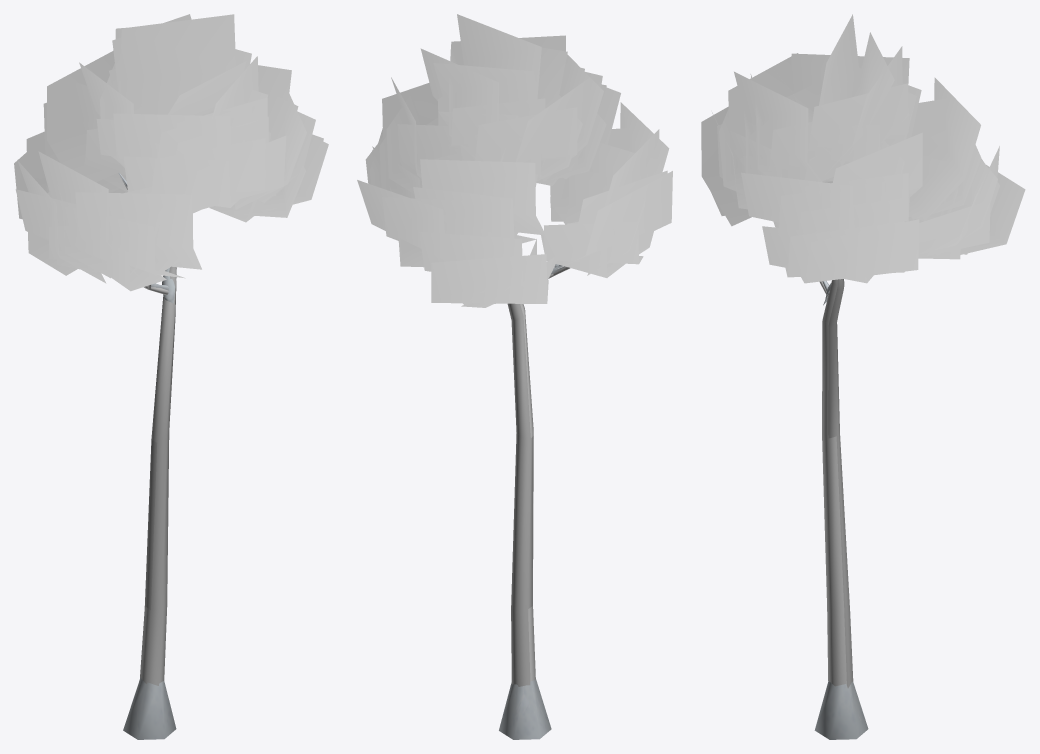
File: Tree_Small_2_Tall_Snow.fbx
3 views of the same model, side by side, from view 1: azimuth 30°, elevation 25°; view 2: azimuth 150°, elevation 25°; view 3: azimuth 270°, elevation 25° (orthographic).
Visible parts, largest first — view 1: Tree_Small_2_Snow_LOD0, Tree_Small_2_Snow_Colider; view 2: Tree_Small_2_Snow_LOD0, Tree_Small_2_Snow_Colider; view 3: Tree_Small_2_Snow_LOD0, Tree_Small_2_Snow_Colider.
Boxes of the visible parts, x1,y1,x2,y2 form: Tree_Small_2_Snow_LOD0: [14, 14, 328, 739]; Tree_Small_2_Snow_Colider: [140, 294, 163, 677]; Tree_Small_2_Snow_LOD0: [357, 14, 672, 739]; Tree_Small_2_Snow_Colider: [507, 303, 533, 686]; Tree_Small_2_Snow_LOD0: [701, 14, 1025, 739]; Tree_Small_2_Snow_Colider: [828, 279, 853, 688].
Size of what is drawn, in the model's own units: 579 by 1361 by 565.
